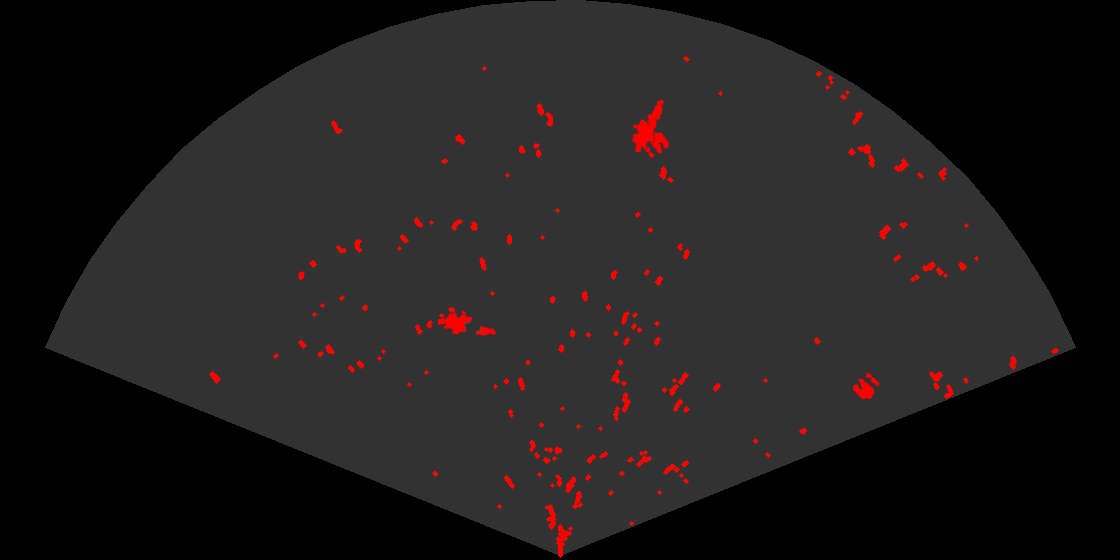ball: (851, 371, 881, 401), (640, 130, 671, 159)
frogman: (630, 97, 665, 152), (438, 309, 497, 337)
